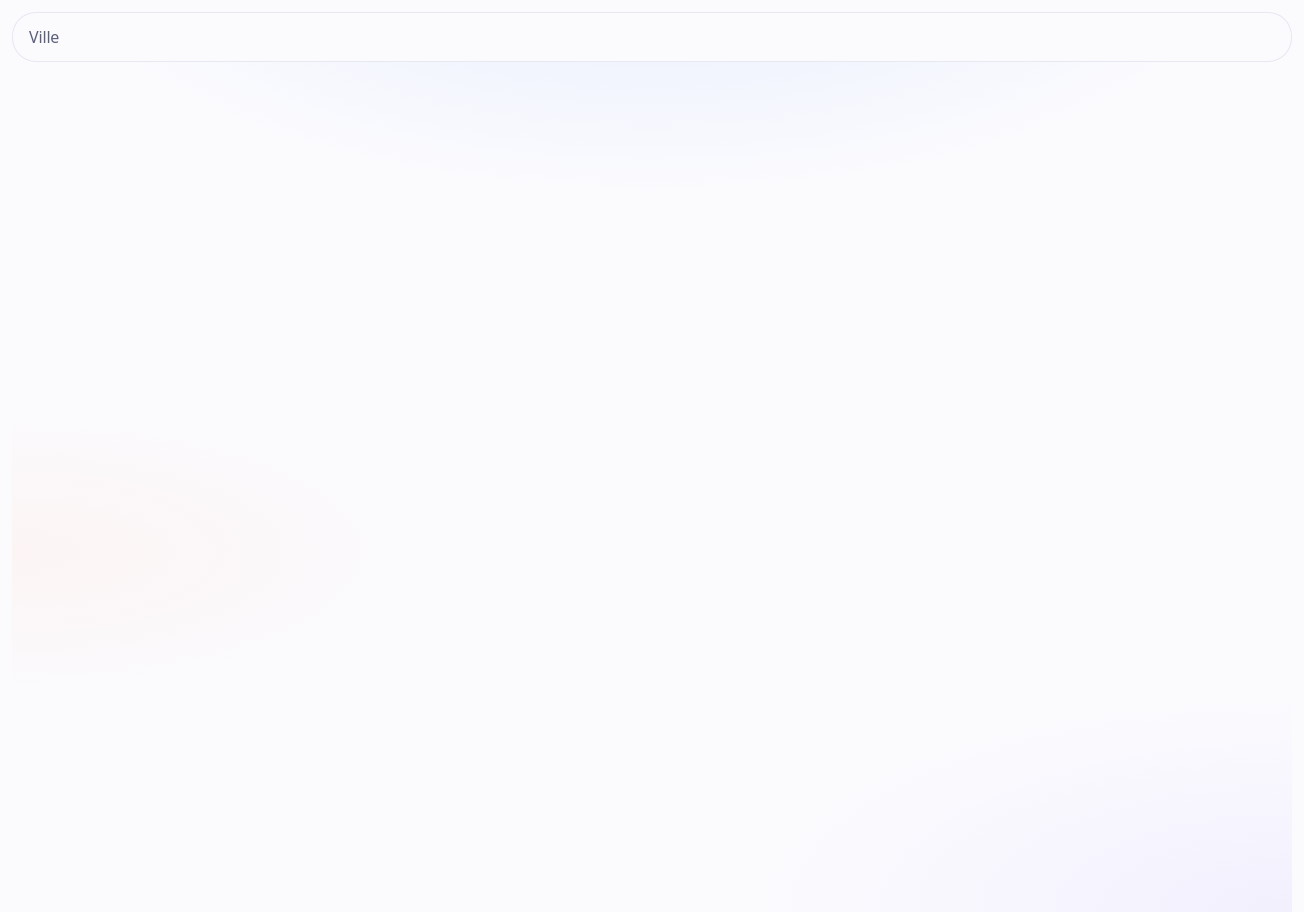
PlaceAutocompleteInput — keyboard navigation › Escape closes the listbox without selecting
Step 1. Type "par" into the dropdown → [652, 37], box [12,12,1292,62]
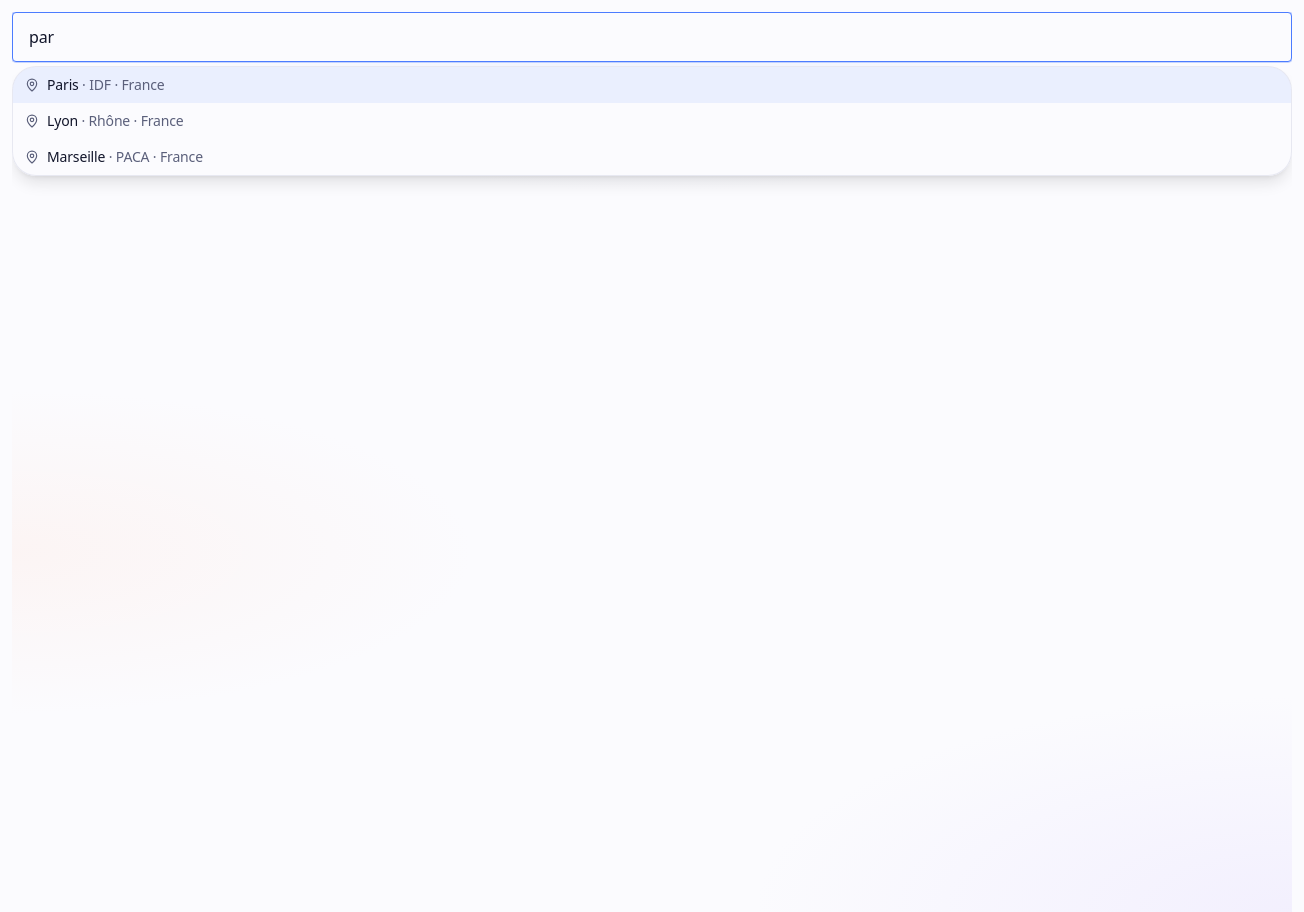
Now the text "Paris" is shown, box [47,75,79,94]
Step 2. Press Escape in the dropdown, box [12,12,1292,62]
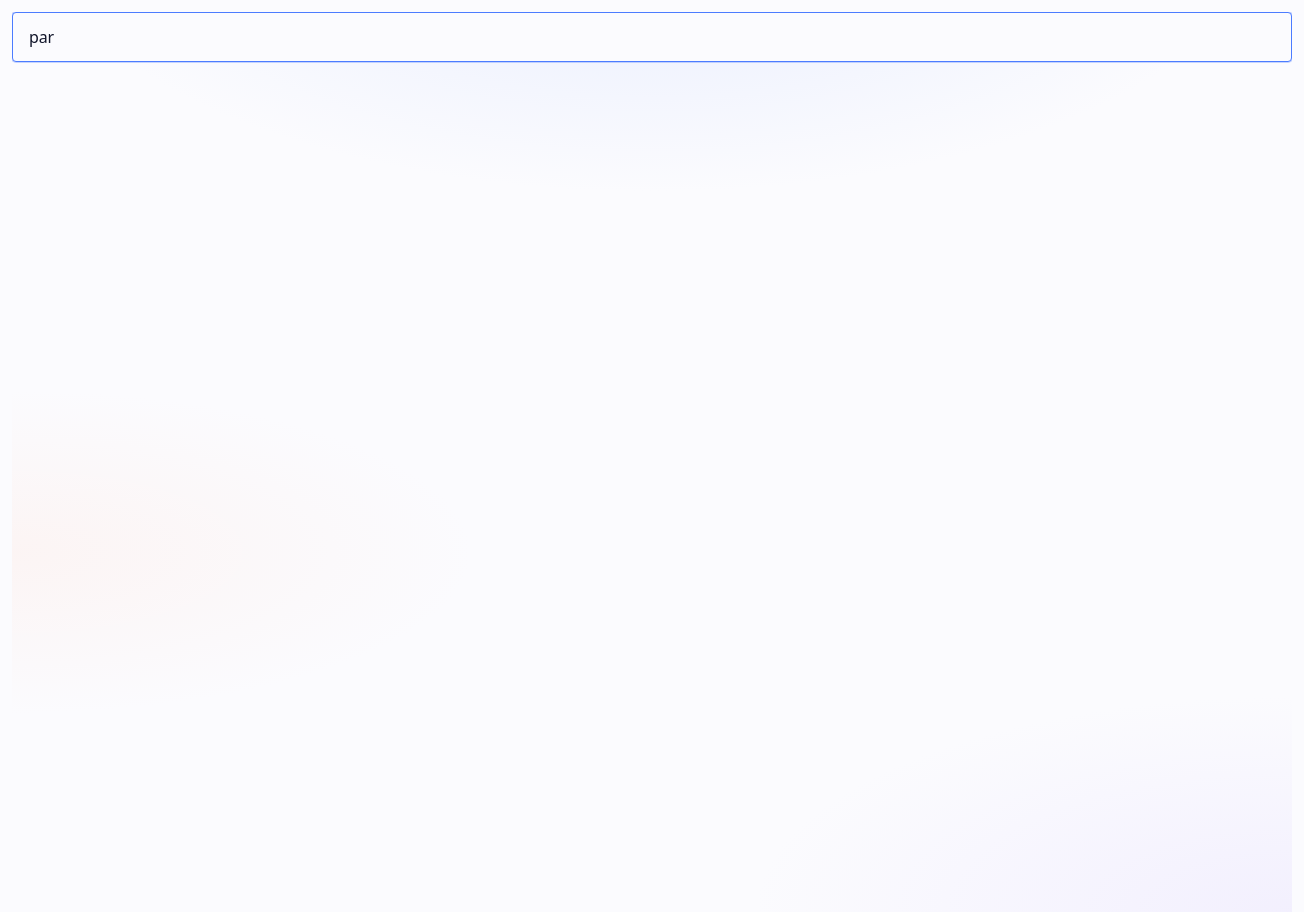
Now the list is gone
